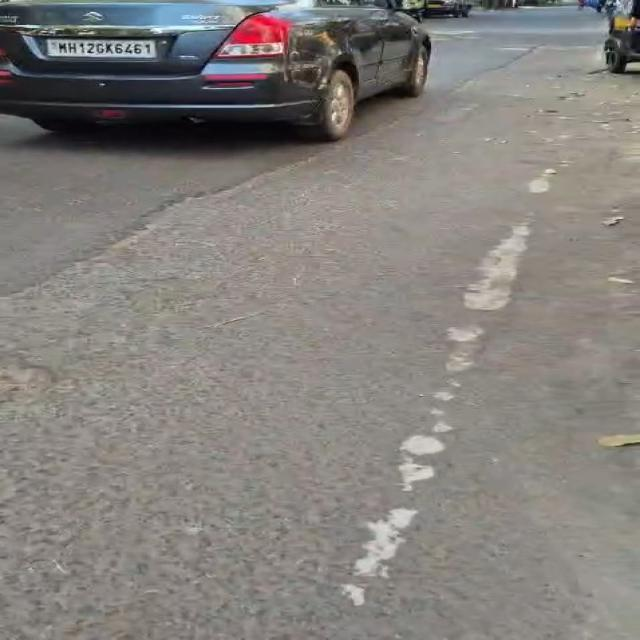vehicle: (0, 0, 431, 141), (428, 0, 472, 17)
